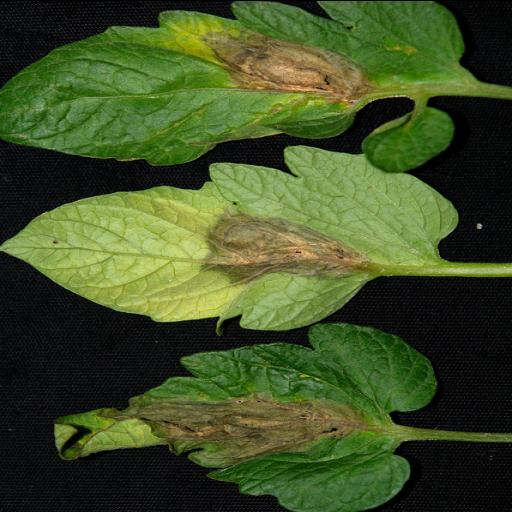Late Blight: (0, 145, 460, 331), (0, 0, 468, 165), (116, 321, 436, 512)
